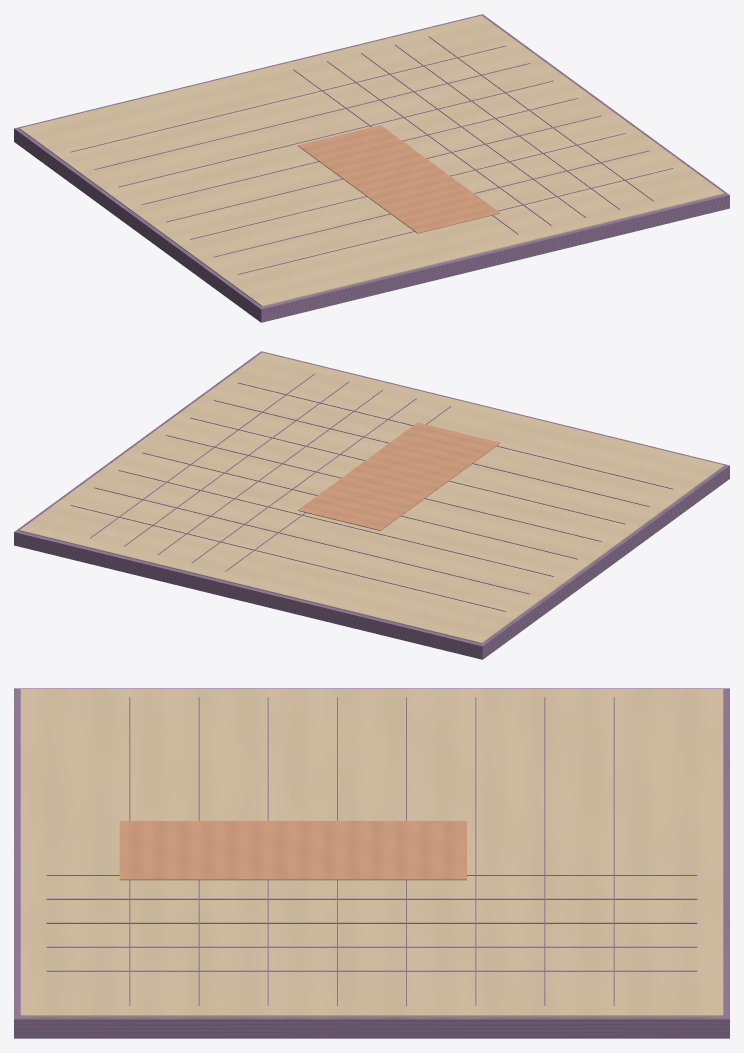
The model's file is atlas100-s085-a07.lod2.glb.
3 renders of one model, top to bottom at view 1: azimuth 30°, elevation 25°; view 2: azimuth 150°, elevation 25°; view 3: azimuth 270°, elevation 25°, orthographic. The views are drawn at different scales.
Parts seen in each view (by area): view 1: atlas100-s085-a07:part-001, atlas100-s085-a07:part-000, atlas100-s085-a07:part-021, atlas100-s085-a07:part-015, atlas100-s085-a07:part-013, atlas100-s085-a07:part-014, atlas100-s085-a07:part-017, atlas100-s085-a07:part-016, atlas100-s085-a07:part-018, atlas100-s085-a07:part-019, atlas100-s085-a07:part-020; view 2: atlas100-s085-a07:part-001, atlas100-s085-a07:part-000, atlas100-s085-a07:part-021, atlas100-s085-a07:part-013, atlas100-s085-a07:part-014, atlas100-s085-a07:part-015, atlas100-s085-a07:part-016, atlas100-s085-a07:part-018, atlas100-s085-a07:part-019, atlas100-s085-a07:part-017, atlas100-s085-a07:part-020; view 3: atlas100-s085-a07:part-001, atlas100-s085-a07:part-000, atlas100-s085-a07:part-021, atlas100-s085-a07:part-009, atlas100-s085-a07:part-011, atlas100-s085-a07:part-012, atlas100-s085-a07:part-010, atlas100-s085-a07:part-013, atlas100-s085-a07:part-014, atlas100-s085-a07:part-015.
Boxes of the visible parts, x1=… form: atlas100-s085-a07:part-001: x1=19, y1=15, x2=724, y2=306; atlas100-s085-a07:part-000: x1=14, y1=14, x2=729, y2=322; atlas100-s085-a07:part-021: x1=297, y1=125, x2=500, y2=233; atlas100-s085-a07:part-015: x1=118, y1=80, x2=553, y2=187; atlas100-s085-a07:part-013: x1=71, y1=45, x2=505, y2=152; atlas100-s085-a07:part-014: x1=94, y1=63, x2=529, y2=169; atlas100-s085-a07:part-017: x1=166, y1=115, x2=601, y2=222; atlas100-s085-a07:part-016: x1=142, y1=98, x2=577, y2=204; atlas100-s085-a07:part-018: x1=190, y1=133, x2=625, y2=239; atlas100-s085-a07:part-019: x1=214, y1=150, x2=649, y2=257; atlas100-s085-a07:part-020: x1=238, y1=168, x2=673, y2=274; atlas100-s085-a07:part-001: x1=19, y1=352, x2=724, y2=643; atlas100-s085-a07:part-000: x1=14, y1=351, x2=729, y2=659; atlas100-s085-a07:part-021: x1=297, y1=422, x2=500, y2=530; atlas100-s085-a07:part-013: x1=70, y1=505, x2=505, y2=611; atlas100-s085-a07:part-014: x1=94, y1=487, x2=529, y2=594; atlas100-s085-a07:part-015: x1=118, y1=470, x2=553, y2=576; atlas100-s085-a07:part-016: x1=142, y1=452, x2=577, y2=559; atlas100-s085-a07:part-018: x1=190, y1=417, x2=625, y2=524; atlas100-s085-a07:part-019: x1=214, y1=400, x2=649, y2=506; atlas100-s085-a07:part-017: x1=166, y1=435, x2=601, y2=541; atlas100-s085-a07:part-020: x1=238, y1=382, x2=672, y2=489; atlas100-s085-a07:part-001: x1=20, y1=689, x2=723, y2=1016; atlas100-s085-a07:part-000: x1=14, y1=688, x2=729, y2=1038; atlas100-s085-a07:part-021: x1=119, y1=821, x2=466, y2=880; atlas100-s085-a07:part-009: x1=46, y1=898, x2=697, y2=899; atlas100-s085-a07:part-011: x1=46, y1=946, x2=697, y2=947; atlas100-s085-a07:part-012: x1=46, y1=970, x2=697, y2=971; atlas100-s085-a07:part-010: x1=46, y1=922, x2=697, y2=923; atlas100-s085-a07:part-013: x1=613, y1=697, x2=614, y2=1005; atlas100-s085-a07:part-014: x1=544, y1=697, x2=545, y2=1005; atlas100-s085-a07:part-015: x1=475, y1=697, x2=476, y2=1005.
Bounding box in the file's own units: 12.46 × 0.404 × 11.39.
Materials: 3 (3 with a texture image).
